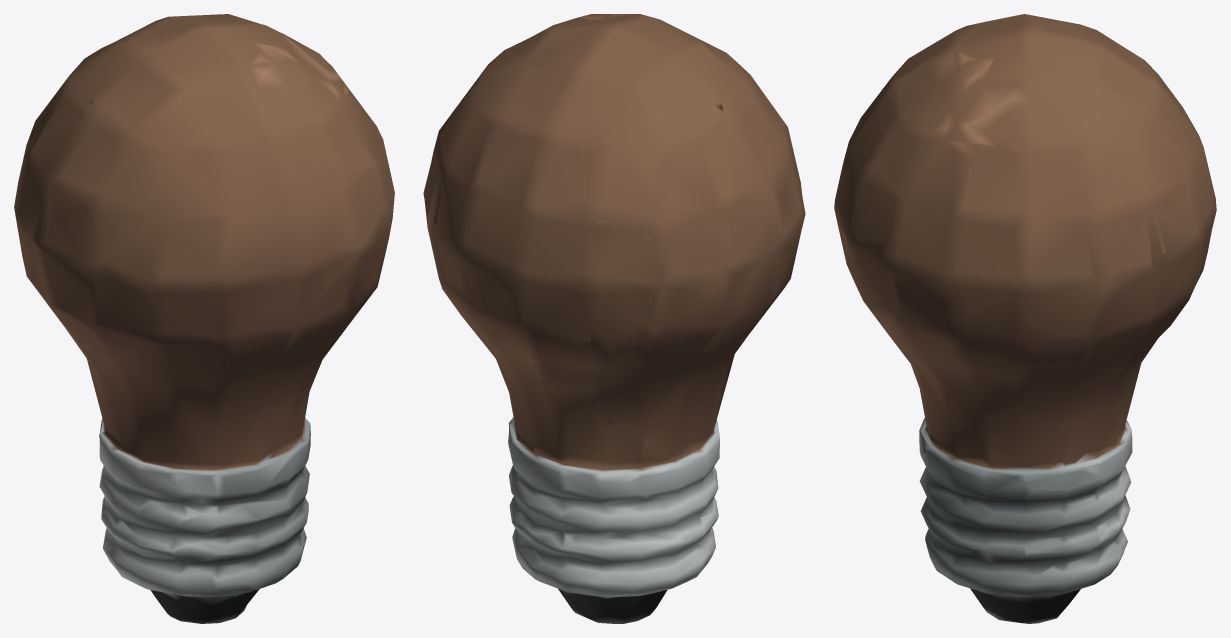
File: gen3d-glowing-light-bulb-lod0.glb
3 views of the same model, side by side, from view 1: azimuth 30°, elevation 25°; view 2: azimuth 150°, elevation 25°; view 3: azimuth 270°, elevation 25° (orthographic).
Parts seen in each view (by area): view 1: part_0; view 2: part_0; view 3: part_0.
Boxes of the visible parts, box(x1,y1,x2,y2) form: part_0: box(14, 14, 394, 623); part_0: box(423, 14, 805, 623); part_0: box(834, 14, 1216, 623).
Bounding box in the file's own units: 0.5946 × 0.9961 × 0.5972.
